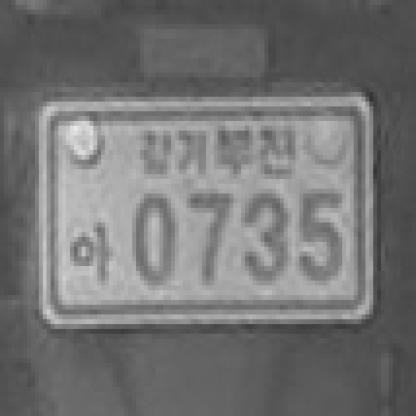bnum: (31, 96, 381, 338)
